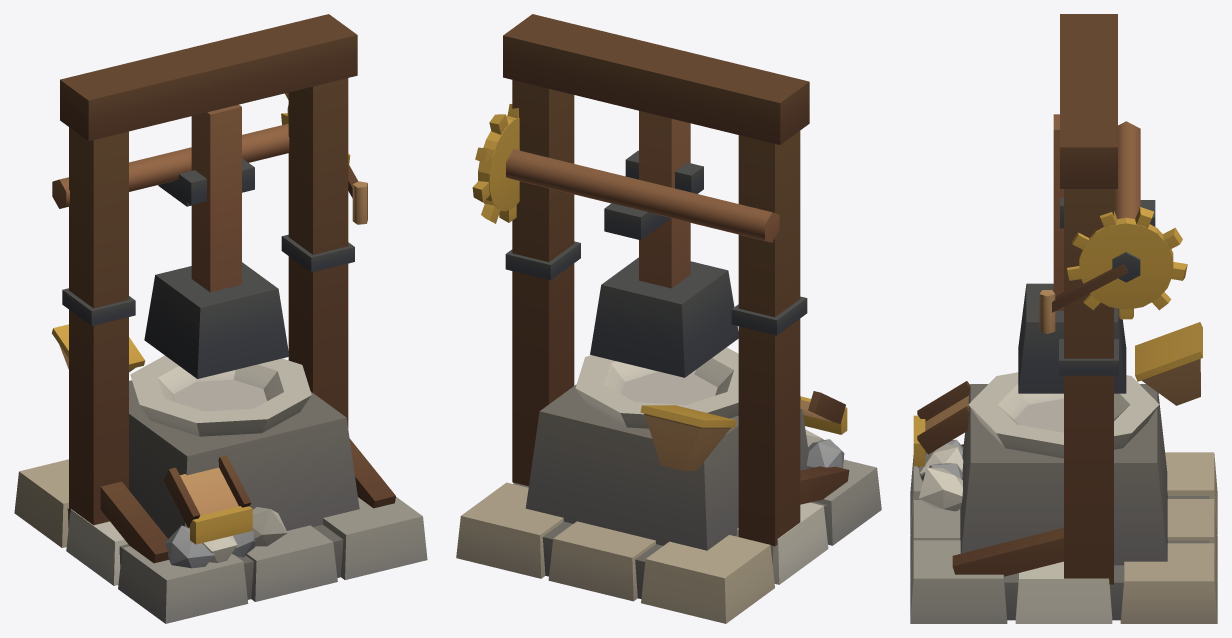
File: mach_crusher.glb
3 views of the same model, side by side, from view 1: azimuth 30°, elevation 25°; view 2: azimuth 150°, elevation 25°; view 3: azimuth 270°, elevation 25° (orthographic). The views are drawn at different scales.
Visible parts, largest first — view 1: mach_crusher; view 2: mach_crusher; view 3: mach_crusher.
Boxes of the visible parts, bbox=[...] form: mach_crusher: bbox=[14, 14, 427, 623]; mach_crusher: bbox=[456, 14, 881, 623]; mach_crusher: bbox=[910, 14, 1217, 623].
Bounding box in the file's own units: 3.86 × 6.35 × 3.7.
Materials: 1 (1 with a texture image).
